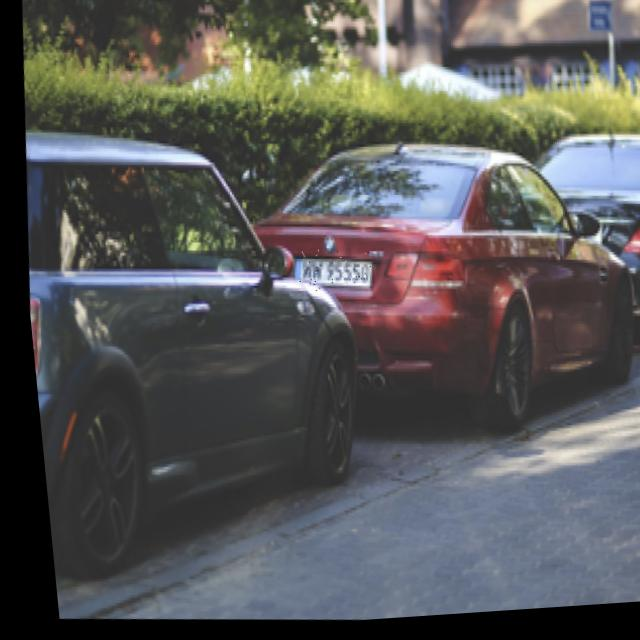license_plate: (288, 247, 372, 302)
